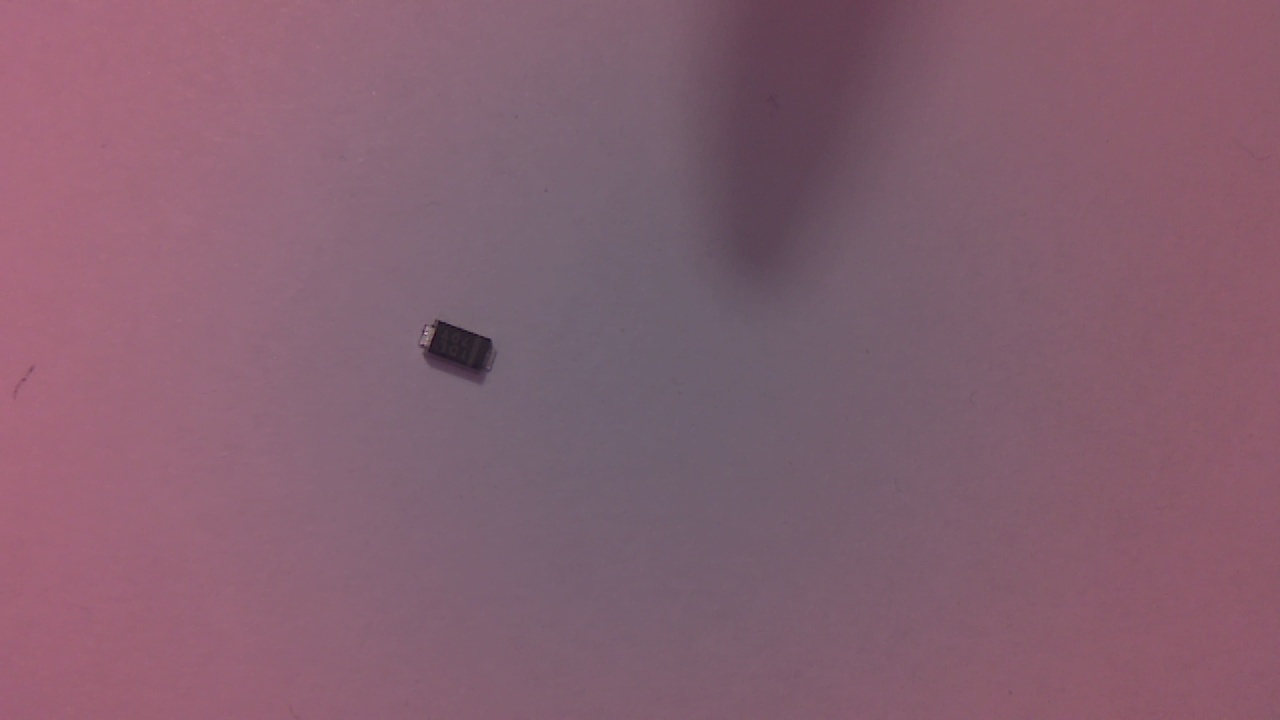Diode: (420, 322, 503, 381)
